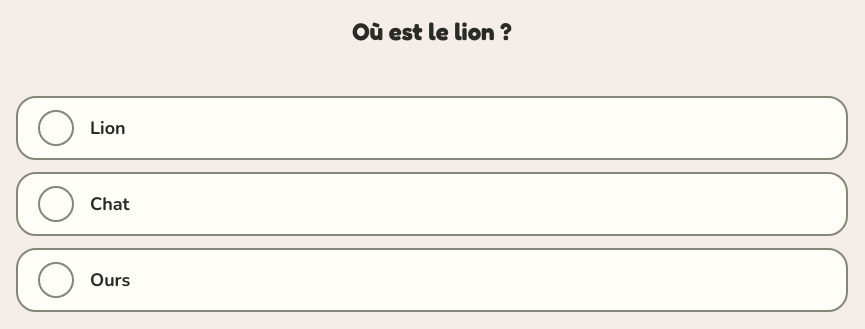
it: QuizRenderer — pédagogie du QCM › une mauvaise réponse est marquée « déjà essayée », reste rejouable, et ne passe pas à la suite
This screenshot has width=865, height=329.
Expected: the heading "Où est le lion ?" is shown, x1=352 y1=16 x2=512 y2=48
Click the button "Chat" at (56, 204), box x1=16 y1=172 x2=848 y2=236
Wait 5000 ms
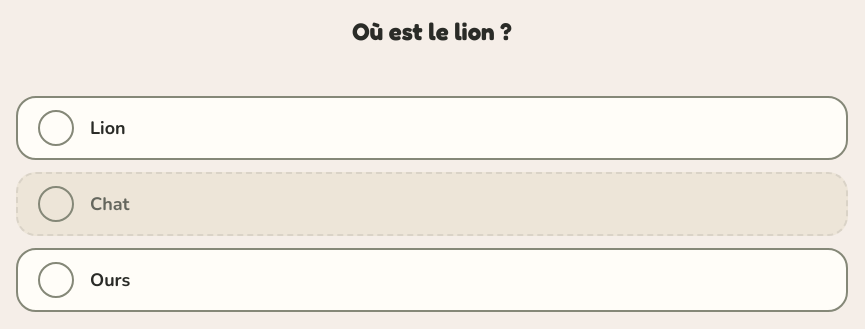
Expected: the button "Lion" is enabled, x1=16 y1=96 x2=848 y2=160
Result: the button with aria-label "Chat — déjà essayée" has attribute data-state="tried" at x1=16 y1=172 x2=848 y2=236
